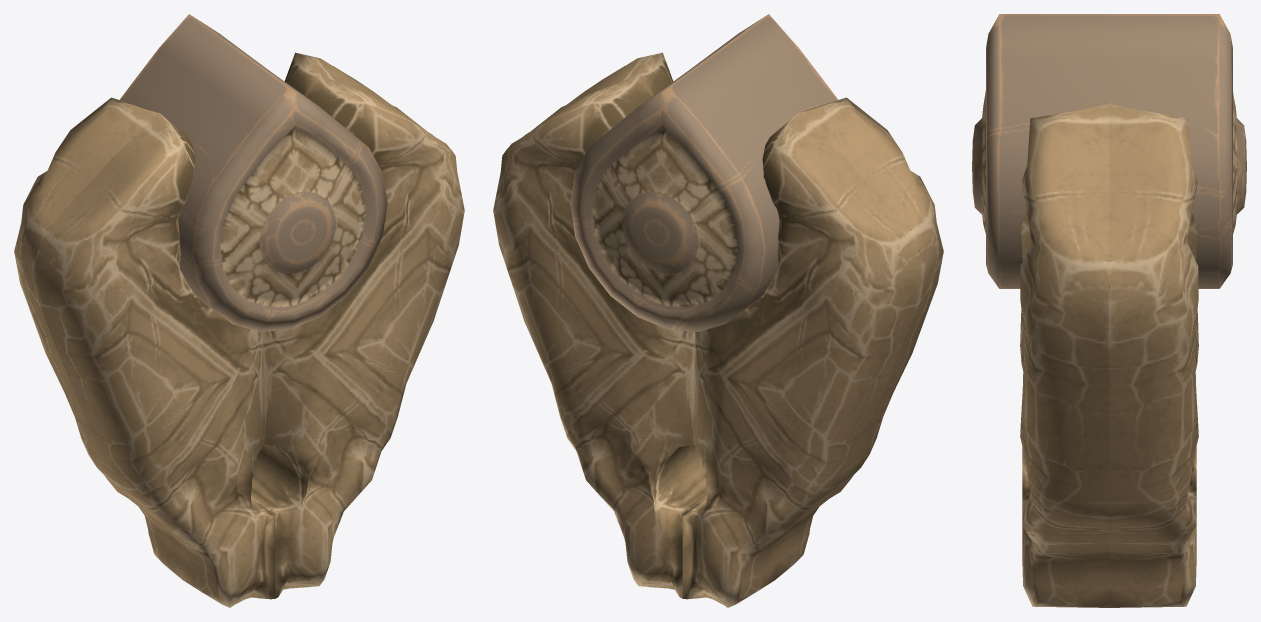
The model's file is FBX_main_flying_stone.fbx.
3 renders of one model, left to right at view 1: azimuth 30°, elevation 25°; view 2: azimuth 150°, elevation 25°; view 3: azimuth 270°, elevation 25°, orthographic. The views are drawn at different scales.
Parts seen in each view (by area): view 1: polySurface_main_flying_stone; view 2: polySurface_main_flying_stone; view 3: polySurface_main_flying_stone.
Part boxes in pixels (x1=…): polySurface_main_flying_stone: x1=14, y1=14, x2=464, y2=607; polySurface_main_flying_stone: x1=493, y1=14, x2=943, y2=607; polySurface_main_flying_stone: x1=972, y1=14, x2=1246, y2=607.
Size of the model in its own units: 7.31 by 8.86 by 3.87.
